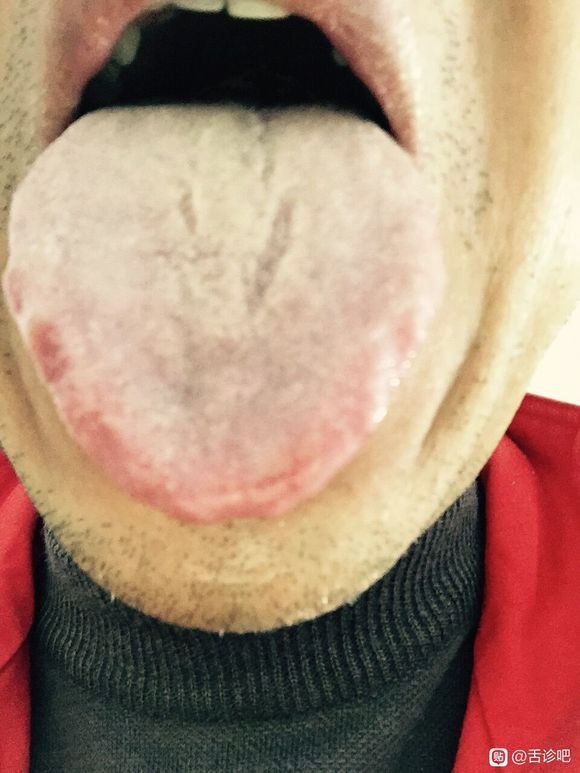baitaishe: (3, 101, 444, 526)
liewenshe: (171, 109, 296, 316)
pangdashe: (3, 100, 444, 525)
